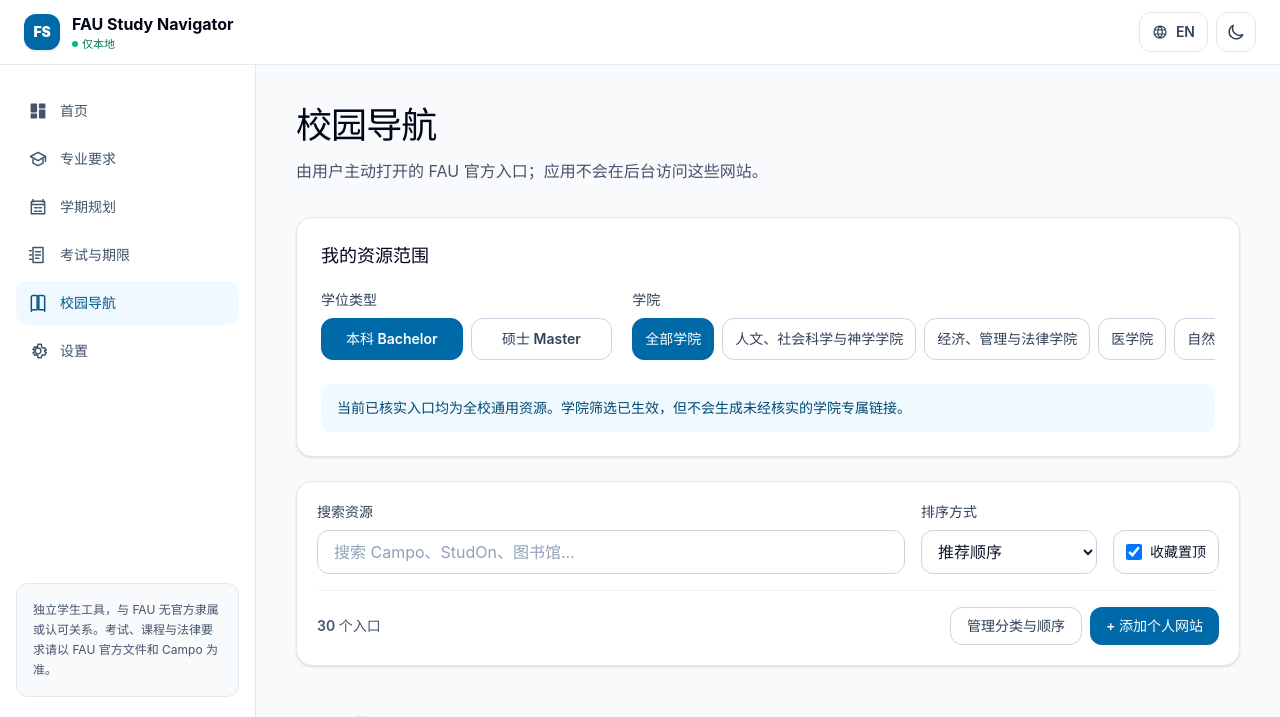
Test case: resources navigator › shows validation instead of saving an invalid personal URL
Click the button "+ 添加个人网站".
click(1154, 626)  # box [1090,607,1219,645]
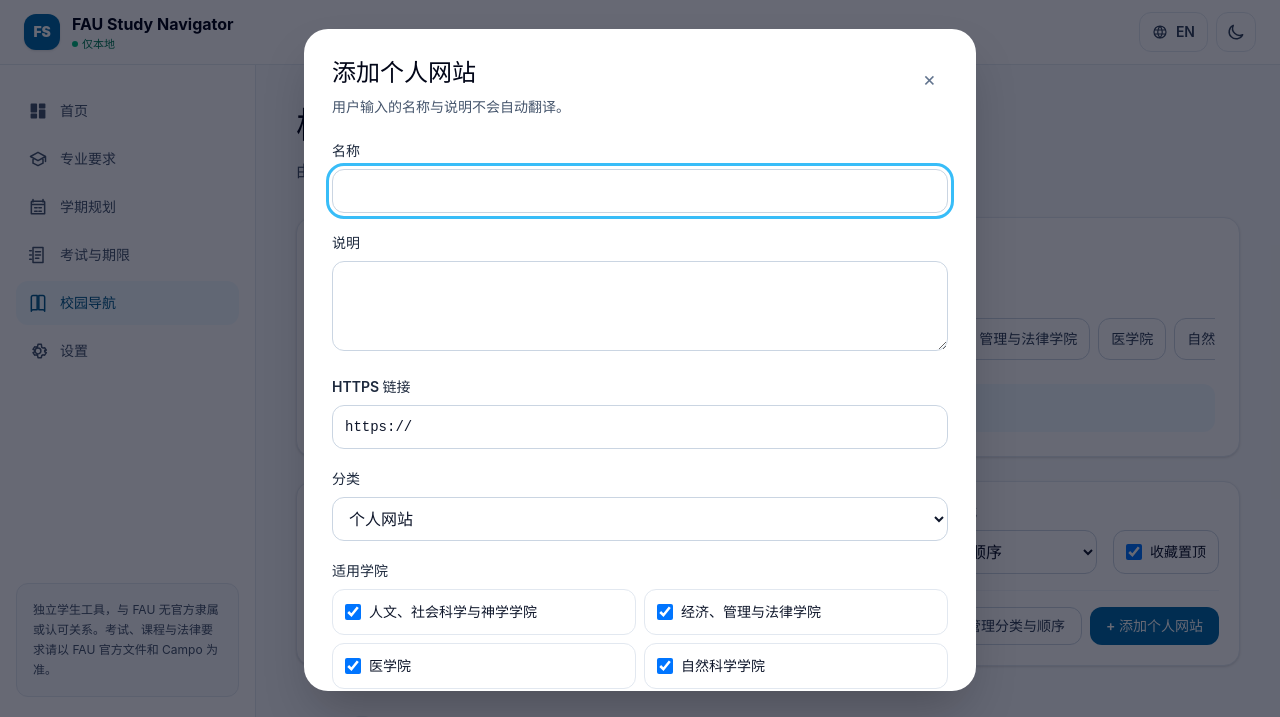
Type "Unsafe" into the field labelled "名称".
click(640, 191); type("Unsafe")  # box [332,169,948,213]
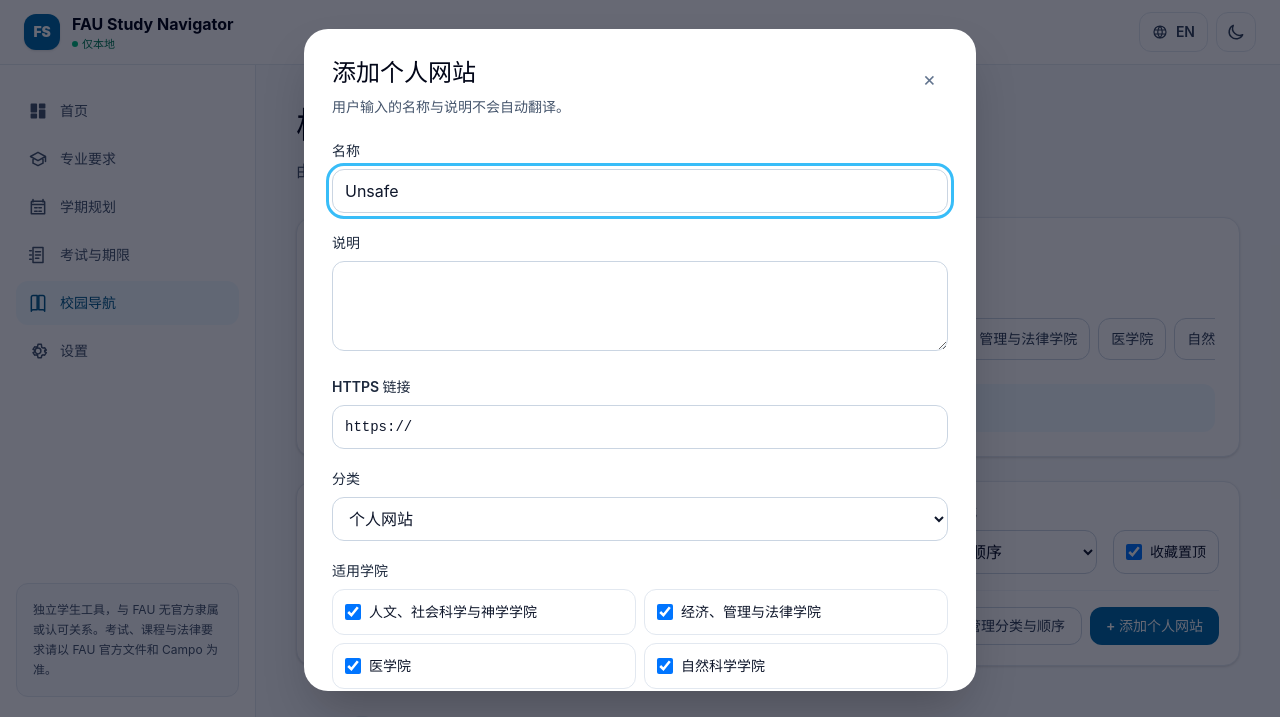
Replace the text in the field labelled "HTTPS 链接" with "http://example.org" at (640, 427), box [332,405,948,449]
(page scrolled)
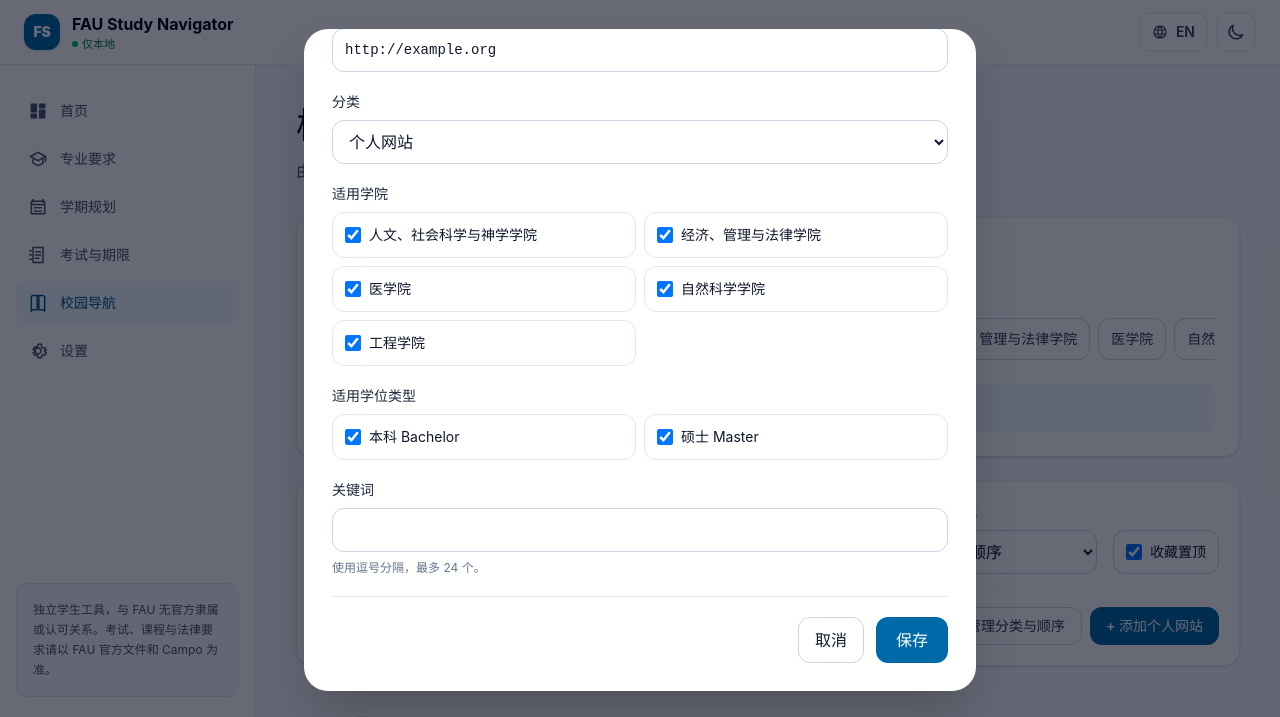
Click the button "保存".
click(912, 640)  # box [876,617,948,663]
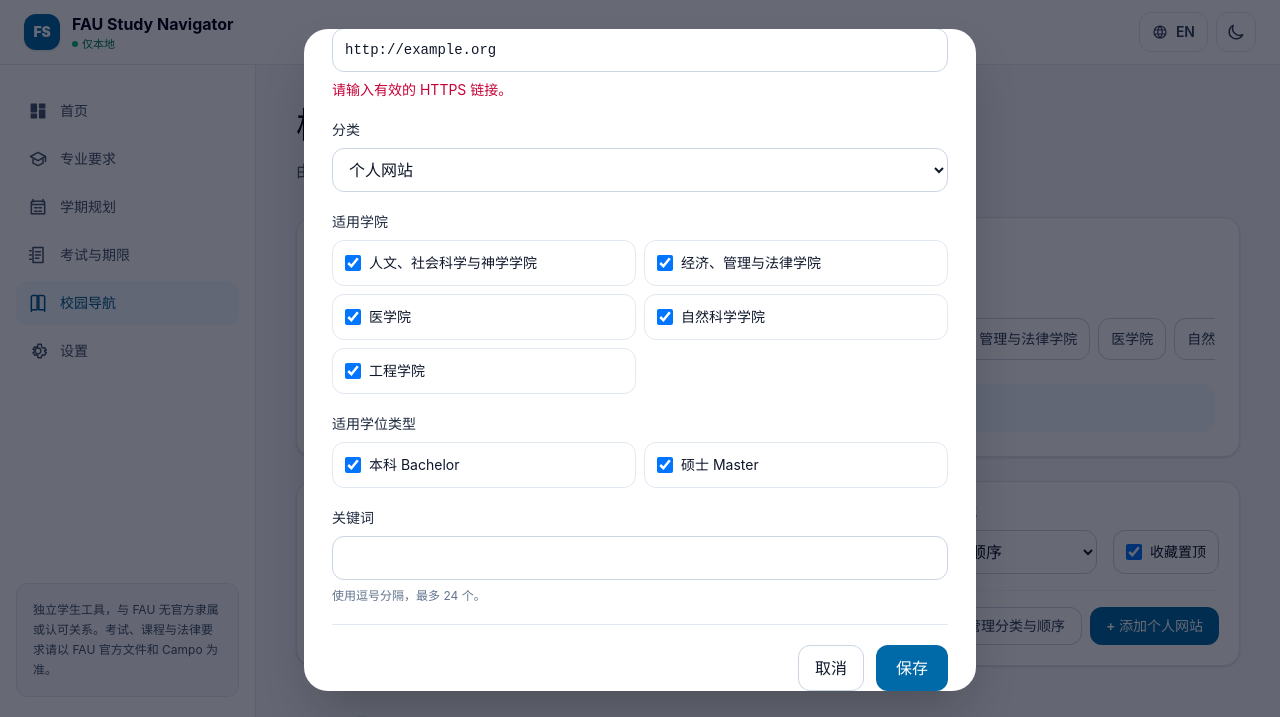
Result: the text "请输入有效的 HTTPS 链接。" is shown at [332,81,512,98]
